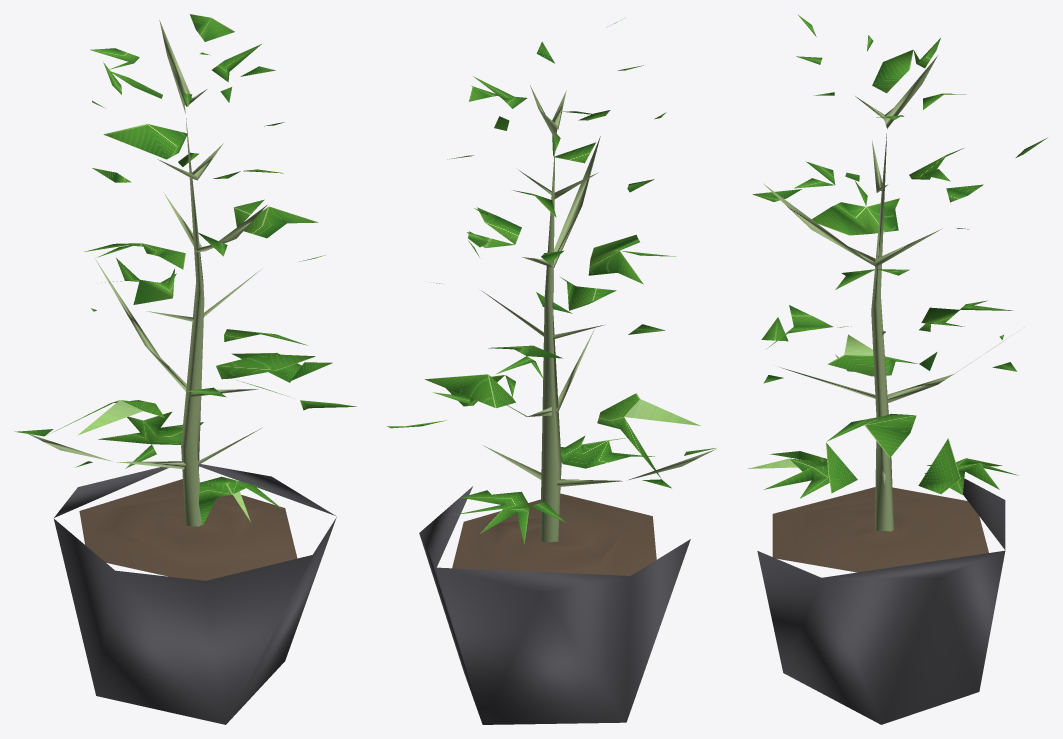
The model's file is zatla-plant-min.glb.
3 renders of one model, left to right at view 1: azimuth 30°, elevation 25°; view 2: azimuth 150°, elevation 25°; view 3: azimuth 270°, elevation 25°, orthographic. The views are drawn at different scales.
Visible parts, largest first — view 1: Zatla_Plant; view 2: Zatla_Plant; view 3: Zatla_Plant.
Boxes of the visible parts, x1,y1,x2,y2 form: Zatla_Plant: (14, 14, 356, 724); Zatla_Plant: (387, 22, 716, 724); Zatla_Plant: (748, 15, 1047, 724).
Bounding box in the file's own units: 0.4433 × 0.9265 × 0.3898.
Materials: 4 (1 with a texture image).
